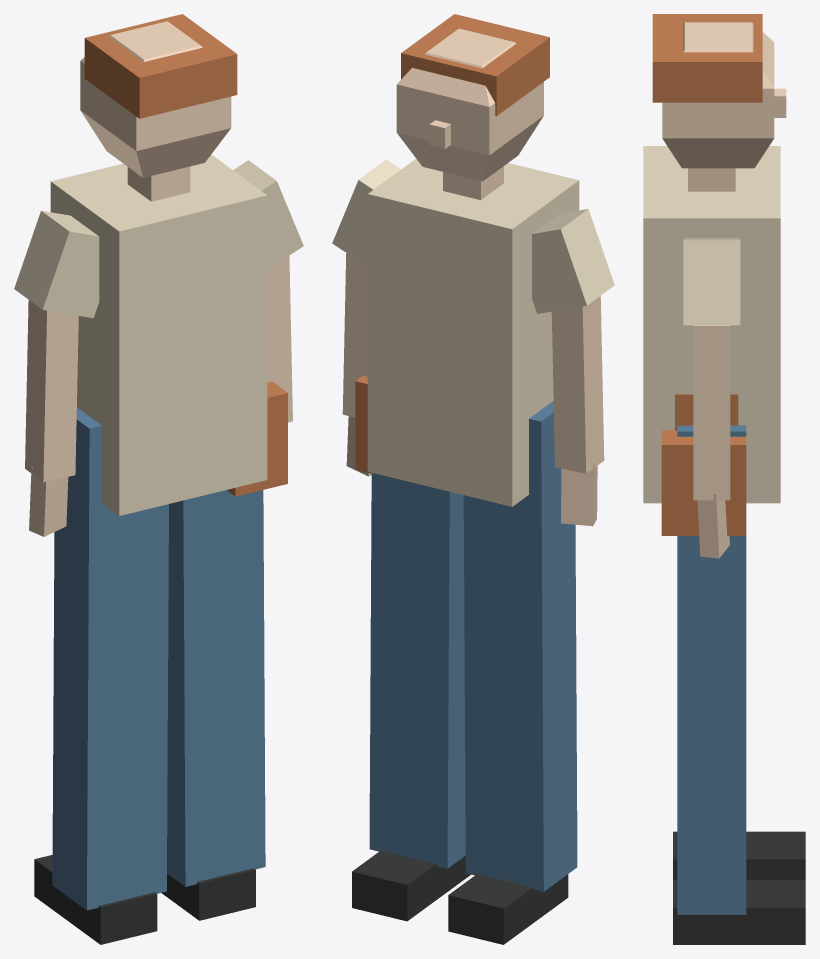
The model's file is pedestrian_03.glb.
3 renders of one model, left to right at view 1: azimuth 30°, elevation 25°; view 2: azimuth 150°, elevation 25°; view 3: azimuth 270°, elevation 25°, orthographic. The views are drawn at different scales.
Visible parts, largest first — view 1: pedestrian_03 crowd_trousers, pedestrian_03 crowd_shirt, pedestrian_03 crowd_skin, pedestrian_03 crowd_rubber, pedestrian_03 crowd_accessory; view 2: pedestrian_03 crowd_trousers, pedestrian_03 crowd_shirt, pedestrian_03 crowd_skin, pedestrian_03 crowd_rubber, pedestrian_03 crowd_accessory; view 3: pedestrian_03 crowd_shirt, pedestrian_03 crowd_trousers, pedestrian_03 crowd_skin, pedestrian_03 crowd_rubber, pedestrian_03 crowd_accessory.
Boxes of the visible parts, x1,y1,x2,y2 form: pedestrian_03 crowd_trousers: (52, 407, 265, 910); pedestrian_03 crowd_shirt: (14, 154, 303, 515); pedestrian_03 crowd_skin: (25, 21, 292, 536); pedestrian_03 crowd_rubber: (34, 14, 255, 944); pedestrian_03 crowd_accessory: (227, 381, 287, 496); pedestrian_03 crowd_trousers: (369, 401, 577, 891); pedestrian_03 crowd_shirt: (332, 159, 614, 506); pedestrian_03 crowd_skin: (342, 28, 604, 526); pedestrian_03 crowd_rubber: (352, 14, 568, 944); pedestrian_03 crowd_accessory: (355, 375, 371, 473); pedestrian_03 crowd_shirt: (643, 146, 780, 503); pedestrian_03 crowd_trousers: (677, 425, 746, 914); pedestrian_03 crowd_skin: (662, 22, 786, 558); pedestrian_03 crowd_rubber: (652, 14, 805, 944); pedestrian_03 crowd_accessory: (661, 394, 746, 535).
Size of the model in its own units: 0.5488 by 1.74 by 0.2952.
